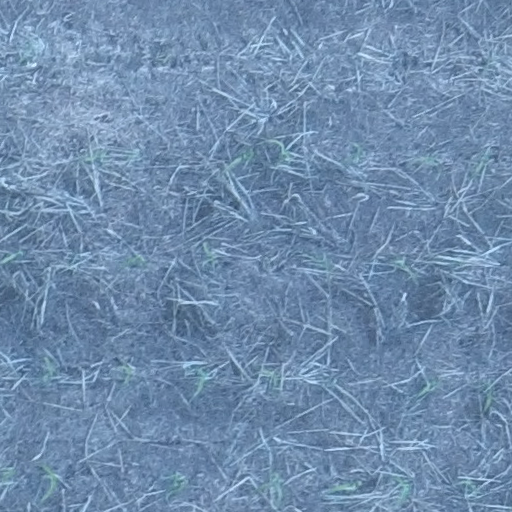planta: (251, 473, 280, 507), (222, 149, 254, 173), (264, 137, 292, 162), (41, 464, 57, 501), (192, 367, 208, 401), (393, 476, 411, 505), (455, 478, 477, 499), (340, 142, 362, 161), (327, 480, 358, 493), (417, 379, 438, 397), (41, 354, 54, 379), (484, 383, 494, 411), (263, 370, 280, 386), (123, 255, 146, 266), (203, 243, 215, 263)
